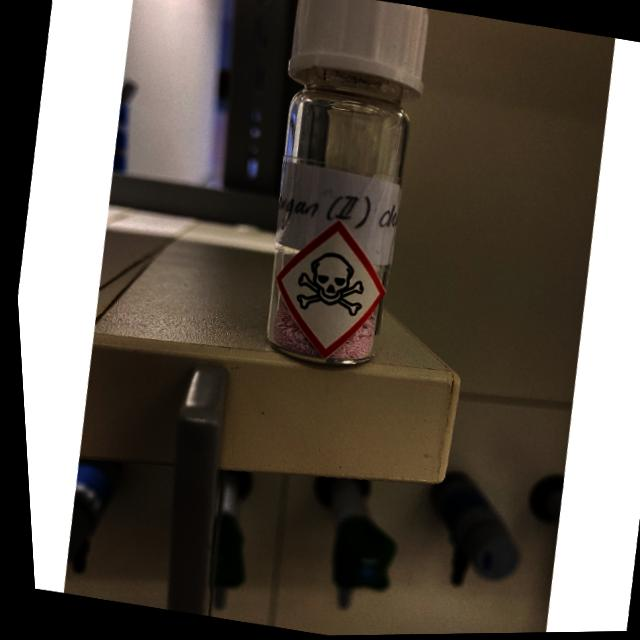acute toxicity: (287, 246, 367, 319)
